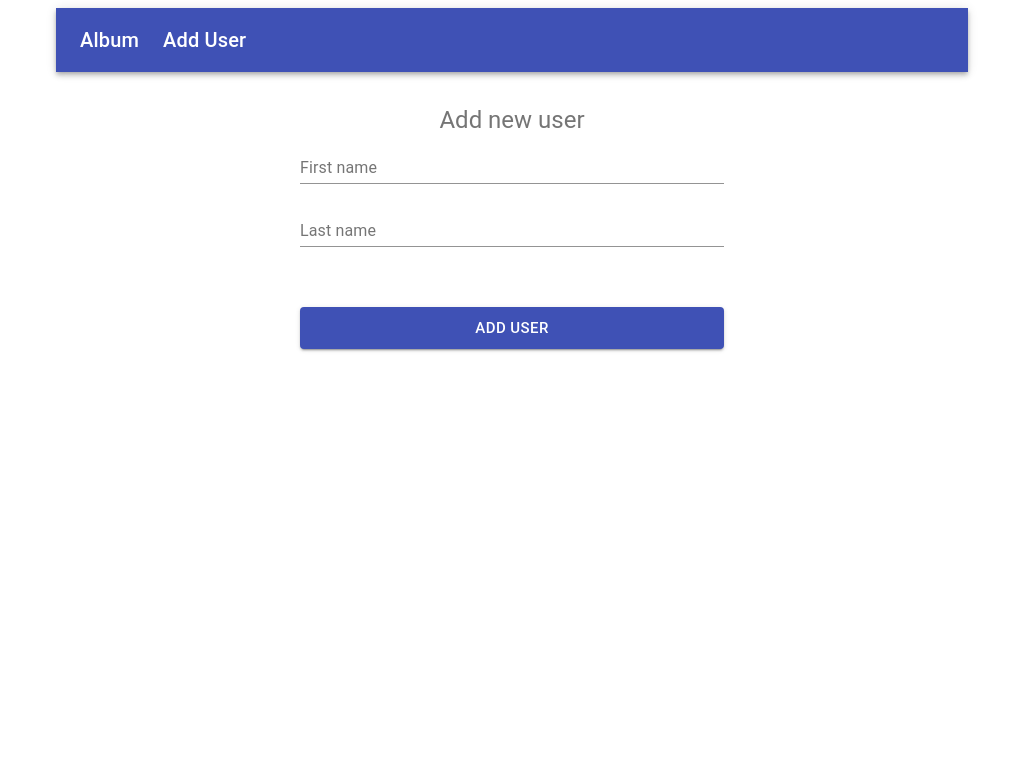
add-user › should show success snack after submitting form with first name and last name
This screenshot has width=1024, height=768.
In the field labelled "First name": (512, 168) [300,152,724,184], type "Jane"
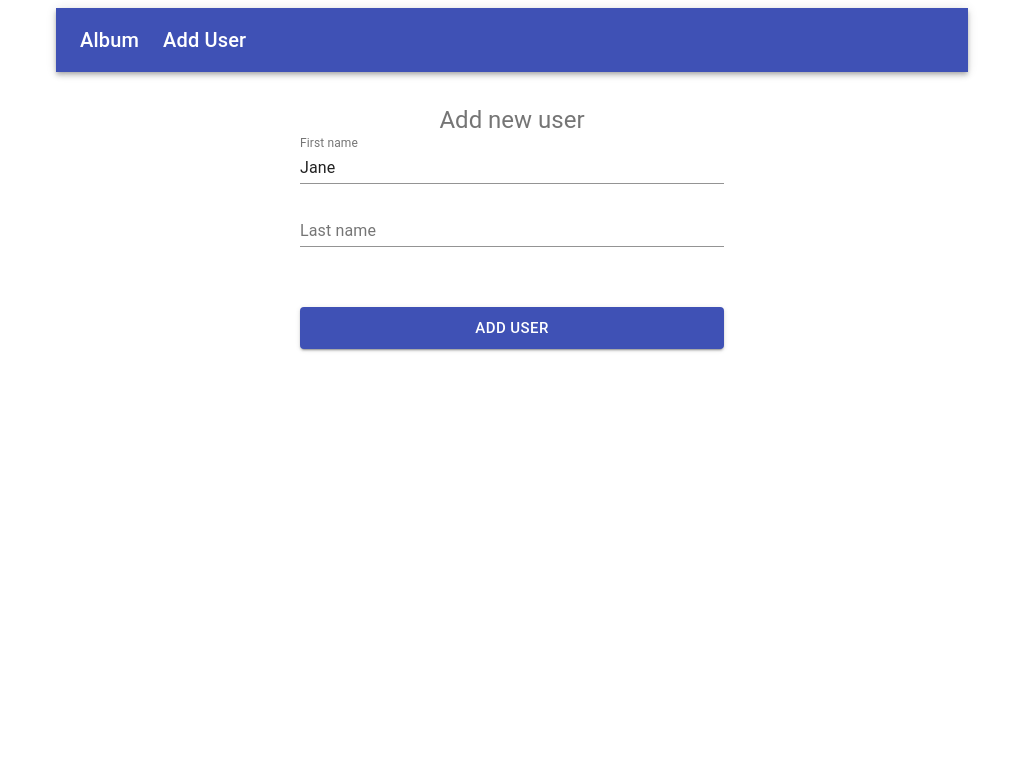
In the field labelled "Last name": (512, 231) [300,215,724,247], type "Doe"
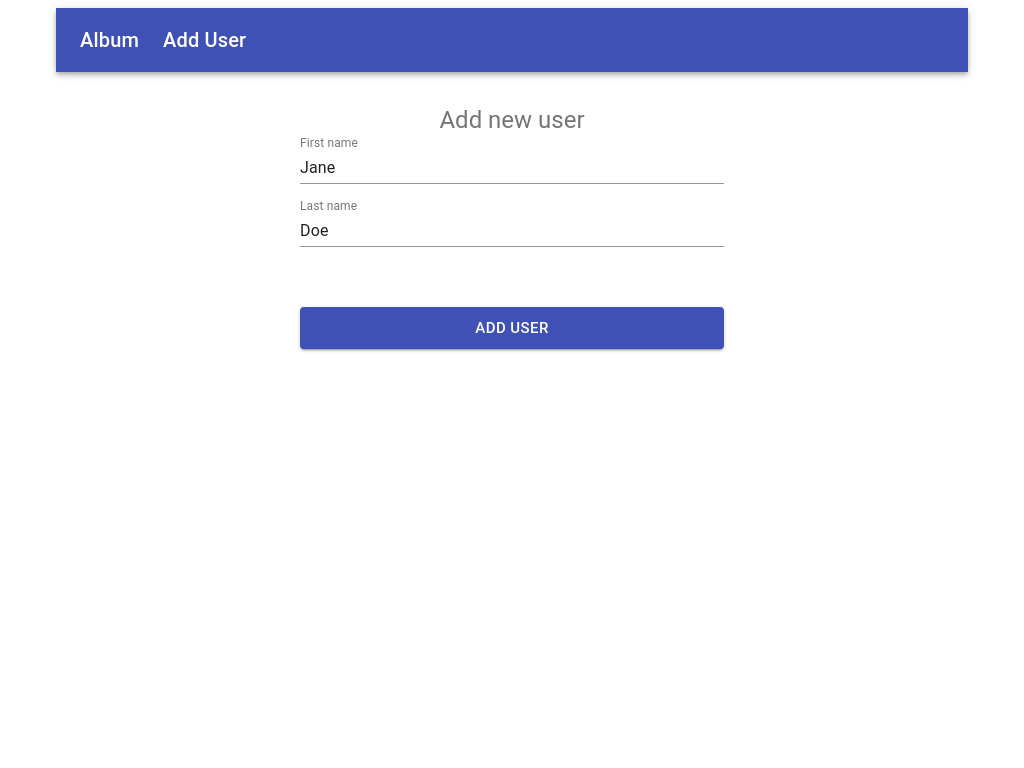
Submit the form, box [300,106,724,349]
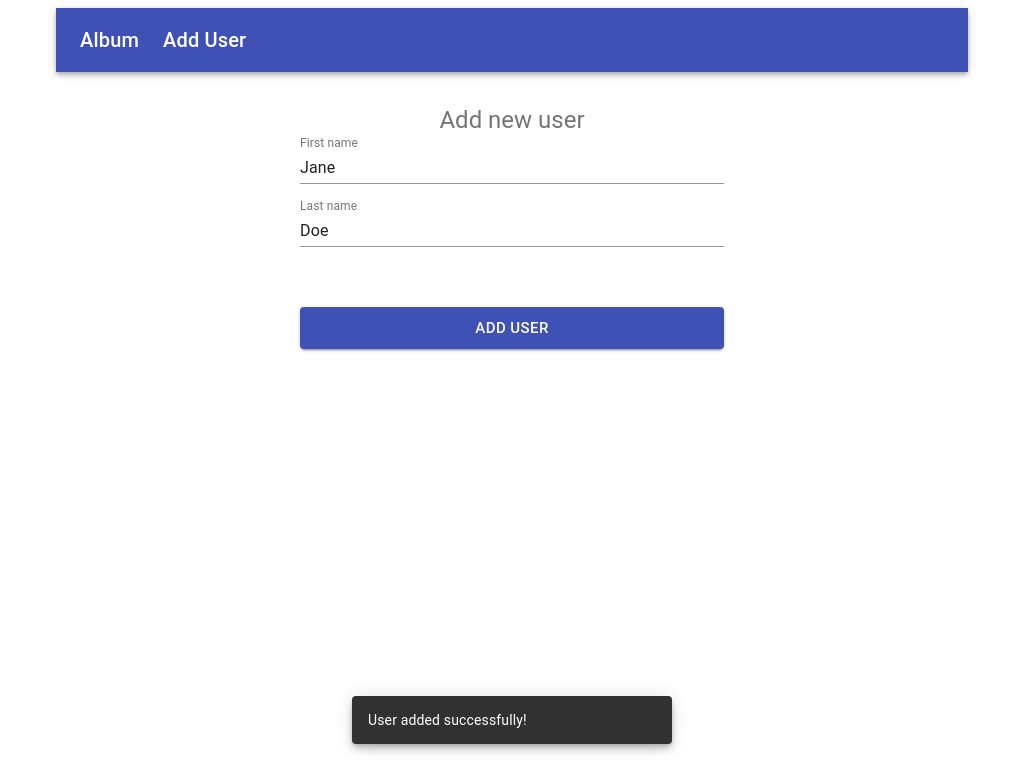
Expected: the text "User added successfully!" is shown, [368,712,527,728]
